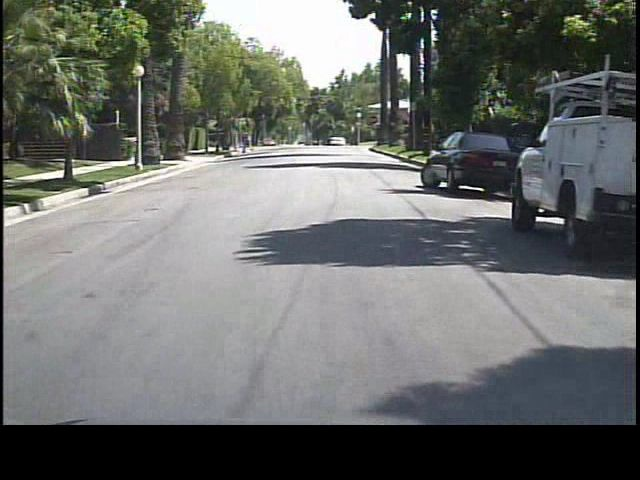person: (242, 129, 256, 158)
